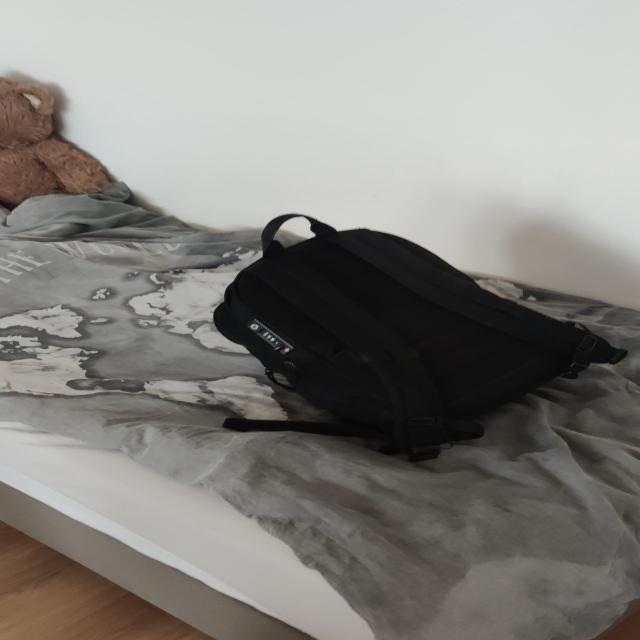backpack: (197, 209, 625, 461)
